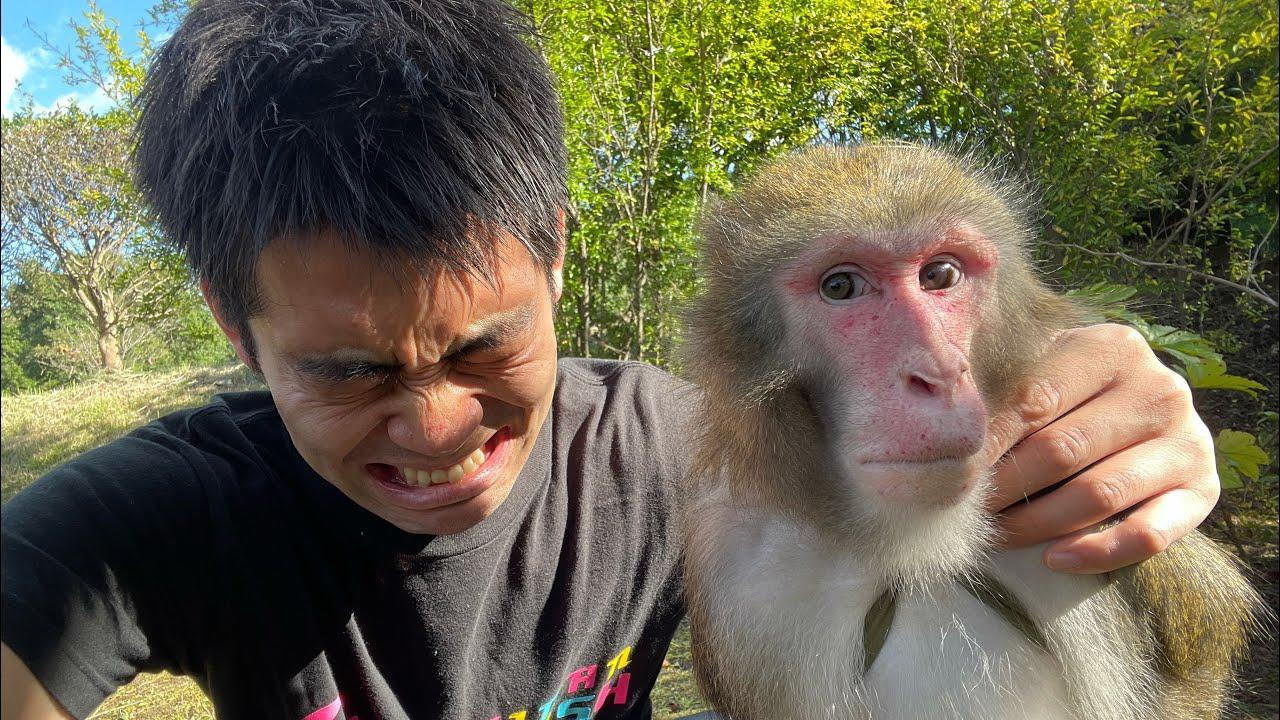Macaca fuscata: (701, 137, 1267, 720)
human: (7, 3, 701, 717)
